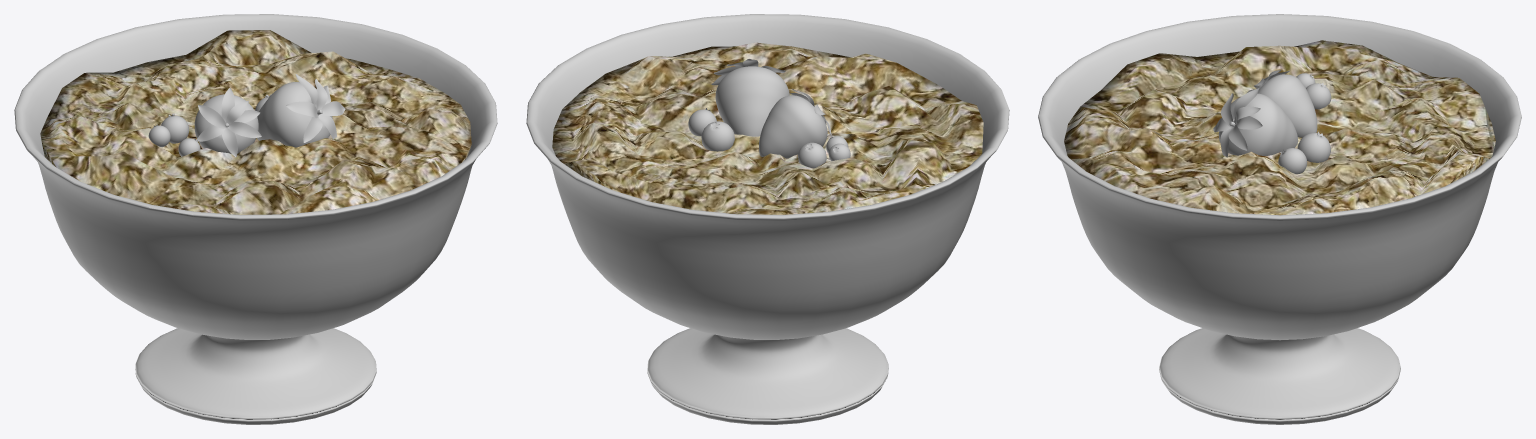
The model's file is oatmeal.fbx.
The picture shows the model from 3 angles, left to right: view 1: azimuth 30°, elevation 25°; view 2: azimuth 150°, elevation 25°; view 3: azimuth 270°, elevation 25°; orthographic projection.
Parts seen in each view (by area): view 1: Bowl (exterior), Oatmeal, Bowl (interior), Strawberry2, Strawberrystem1, Strawberrystem2, Strawberry1, blueberry2; view 2: Bowl (exterior), Oatmeal, Bowl (interior), Strawberry2, Strawberry1, blueberry3, blueberry2, blueberry1; view 3: Bowl (exterior), Oatmeal, Bowl (interior), Strawberry2, Strawberry1, Strawberrystem2, blueberry3, blueberry1, blueberry2.
Boxes of the visible parts, box(x1,y1,x2,y2) form: Bowl (exterior): box(14, 65, 497, 424); Oatmeal: box(40, 30, 471, 214); Bowl (interior): box(15, 14, 496, 217); Strawberry2: box(257, 82, 332, 147); Strawberrystem1: box(196, 88, 261, 156); Strawberrystem2: box(286, 74, 345, 142); Strawberry1: box(194, 94, 258, 153); blueberry2: box(161, 114, 189, 143); Bowl (exterior): box(526, 65, 1009, 424); Oatmeal: box(552, 42, 983, 214); Bowl (interior): box(527, 14, 1008, 217); Strawberry2: box(715, 66, 789, 136); Strawberry1: box(759, 95, 827, 158); blueberry3: box(701, 121, 734, 151); blueberry2: box(798, 142, 826, 168); blueberry1: box(688, 108, 716, 136); Bowl (exterior): box(1038, 62, 1521, 424); Oatmeal: box(1064, 40, 1495, 215); Bowl (interior): box(1039, 14, 1520, 217); Strawberry2: box(1218, 93, 1297, 155); Strawberry1: box(1258, 74, 1317, 137); Strawberrystem2: box(1213, 88, 1262, 157); blueberry3: box(1297, 131, 1330, 162); blueberry1: box(1278, 148, 1307, 173); blueberry2: box(1306, 83, 1331, 109).
Size of the model in its own units: 1.17 by 0.8072 by 1.17.
